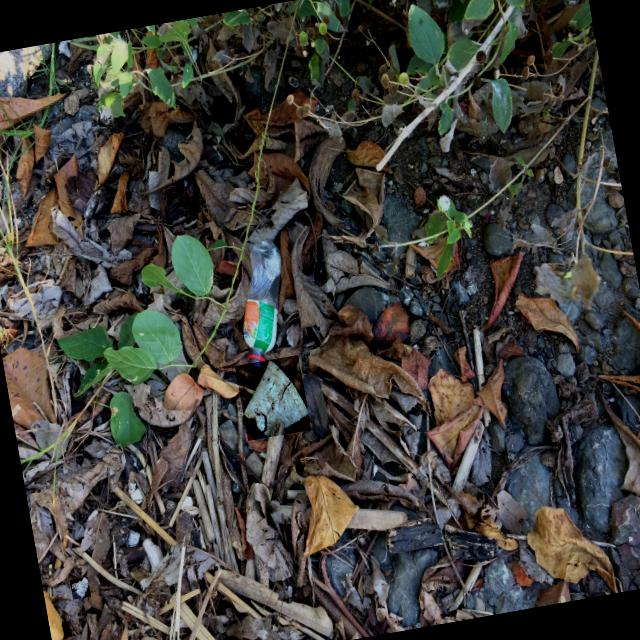Clear plastic bottle: (243, 241, 281, 371)
Styrofoam piece: (243, 360, 308, 437), (70, 577, 87, 598), (126, 530, 139, 546), (87, 509, 97, 521)
